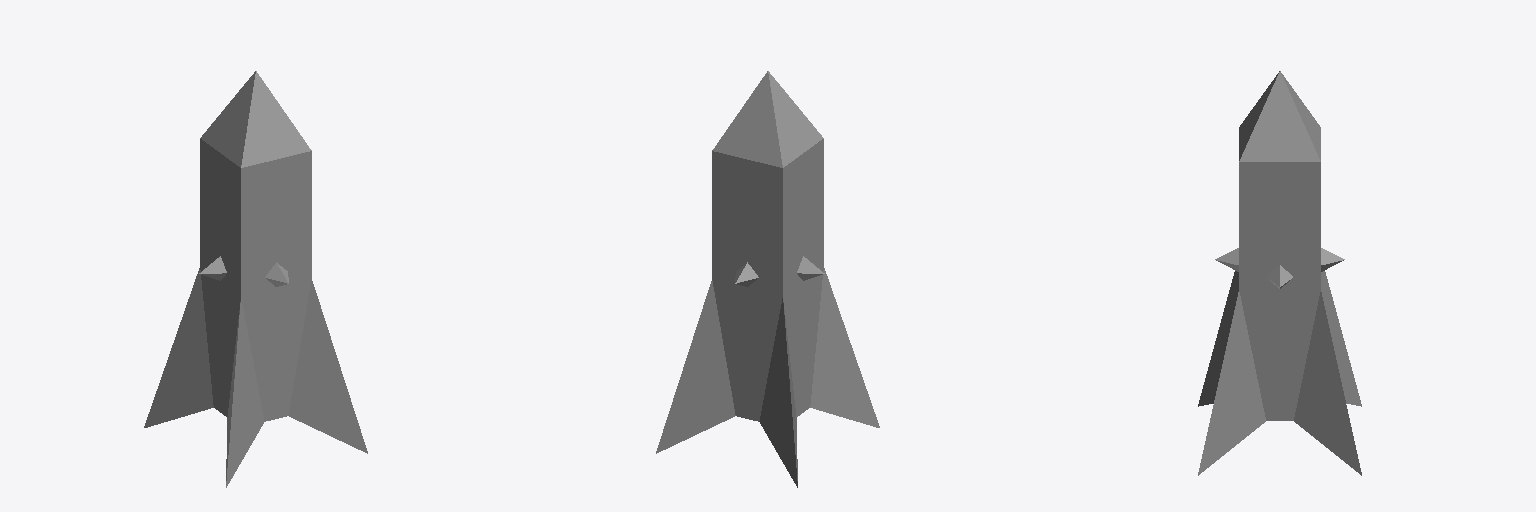
File: missile.obj
3 views of the same model, side by side, from view 1: azimuth 30°, elevation 25°; view 2: azimuth 150°, elevation 25°; view 3: azimuth 270°, elevation 25° (orthographic).
Parts seen in each view (by area): view 1: mine_mine_0; view 2: mine_mine_0; view 3: mine_mine_0.
Boxes of the visible parts, box(x1,y1,x2,y2) form: mine_mine_0: box(144, 71, 367, 487); mine_mine_0: box(656, 71, 879, 487); mine_mine_0: box(1198, 71, 1361, 475).
Bounding box in the file's own units: 8.05 × 20.02 × 8.05.